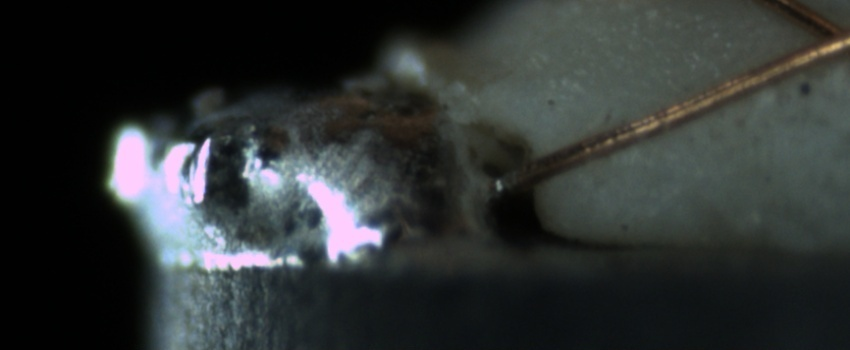CL: (790, 6, 849, 65)
